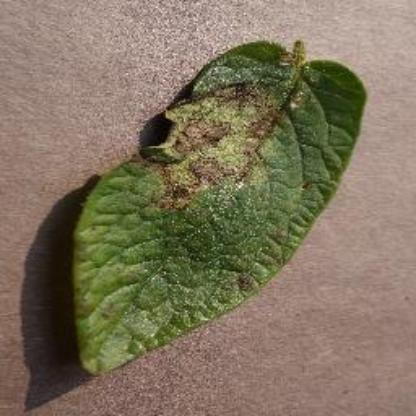Late-Blight: (60, 31, 372, 375)
